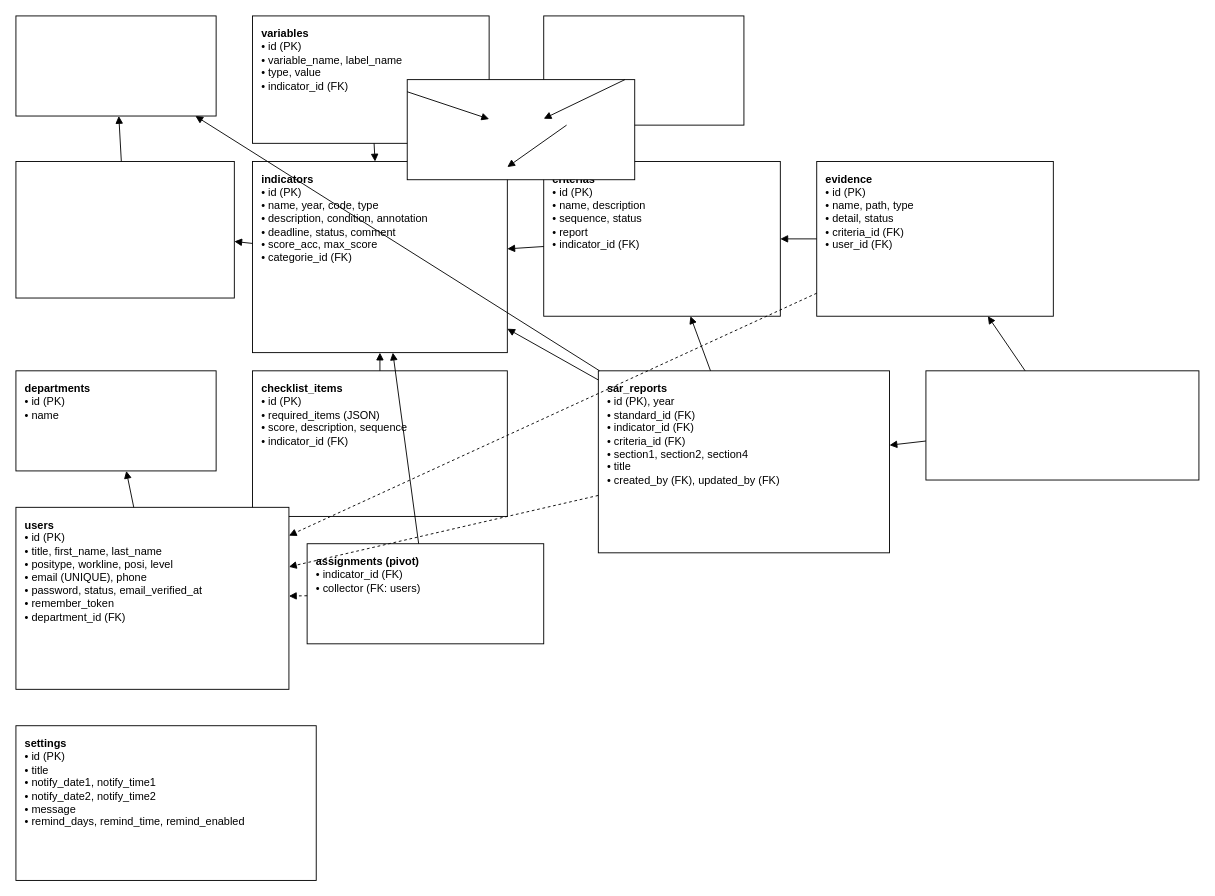
Some shapes in this 1215 by 896 pixel diagram are drawn without their labels. The shapes that lost their labels are listed below. From the top down, each one's centre as x and y in pixels, then its label:
At [115,65]: "standards • id (PK) • name".
At [643,70]: "formulas • id (PK) • condition • indicator_id (FK)".
At [520,129]: "variable_formulas (pivot) • variable_id (FK) • formula_id (FK)".
At [124,229]: "categories • id (PK) • name • max_score • standard_id (FK)".
At [1062,425]: "sar_report_evidence (pivot) • id (PK) • sar_report_id (FK) • evidence_id (FK)".
